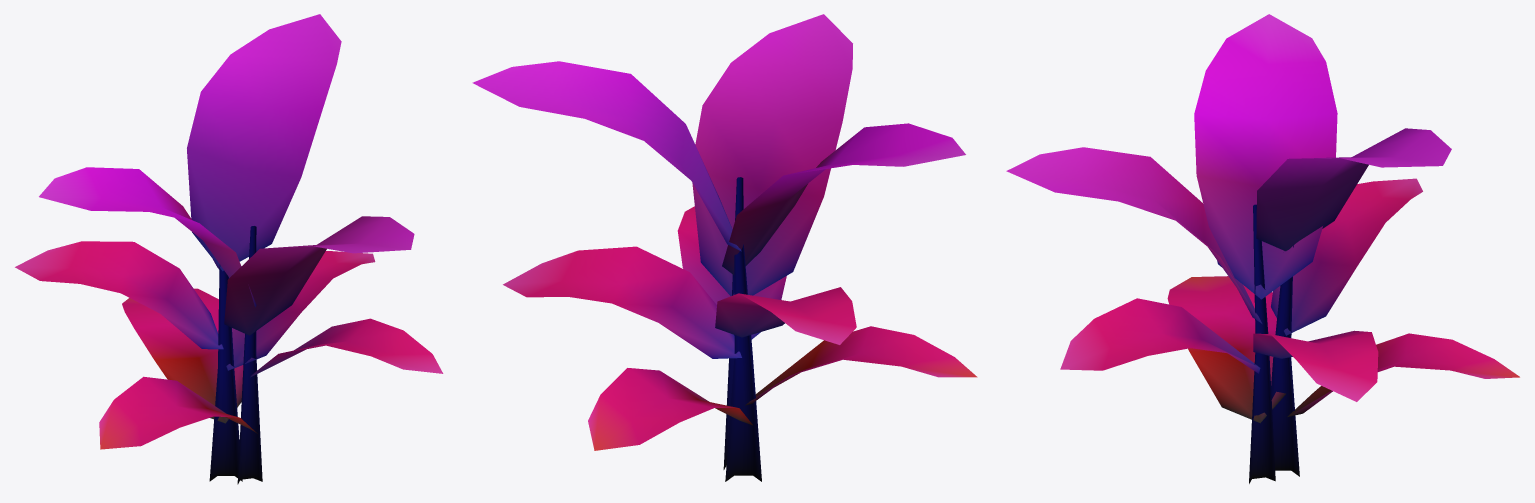
Rendered from Bananas_02.fbx.
The picture shows the model from 3 angles, left to right: view 1: azimuth 30°, elevation 25°; view 2: azimuth 150°, elevation 25°; view 3: azimuth 270°, elevation 25°; orthographic projection. The views are drawn at different scales.
Visible parts, largest first — view 1: Bananas_02; view 2: Bananas_02; view 3: Bananas_02.
Part boxes in pixels (x1=…): Bananas_02: x1=15, y1=14, x2=443, y2=484; Bananas_02: x1=472, y1=14, x2=977, y2=481; Bananas_02: x1=1006, y1=14, x2=1519, y2=483.
Size of the model in its own units: 246 by 233 by 272.
